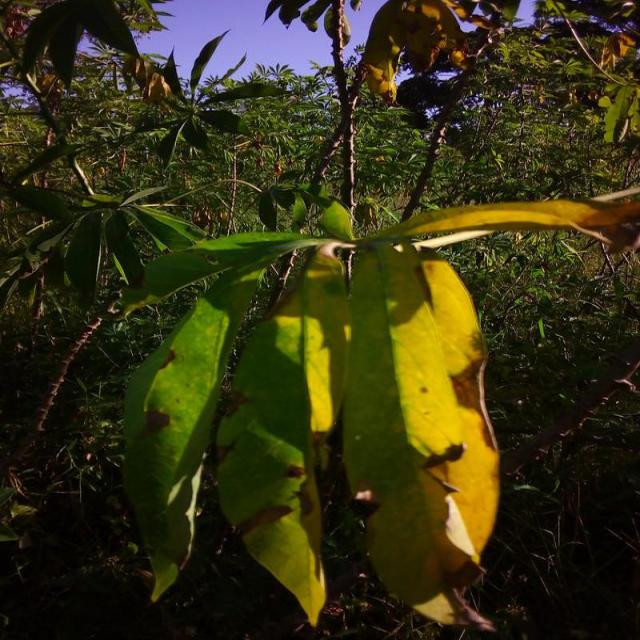cassava leaf: (342, 239, 501, 628), (215, 247, 352, 628), (120, 259, 266, 603)
